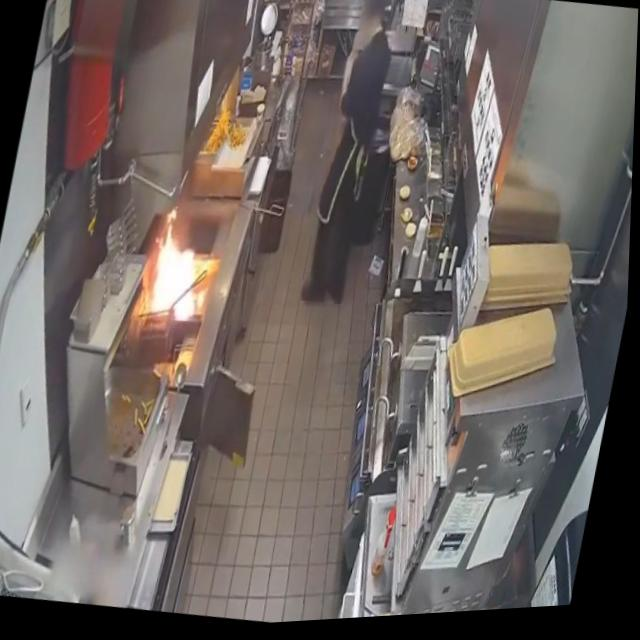fire: (140, 211, 217, 330)
